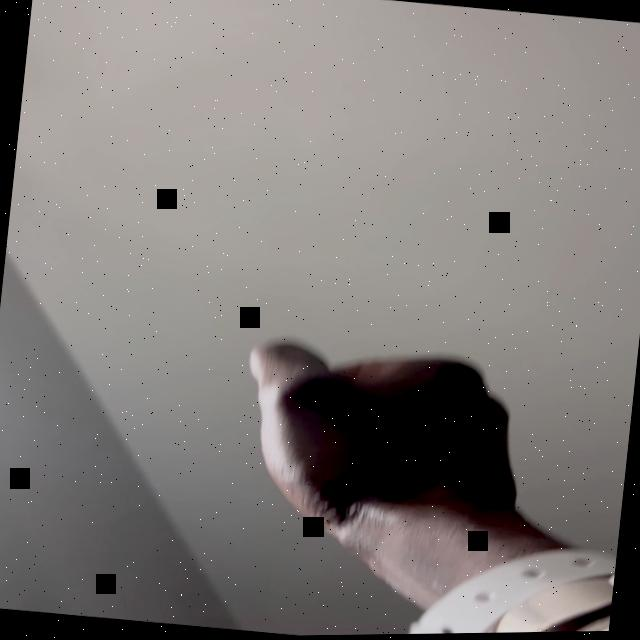Rock: (231, 332, 534, 554)
